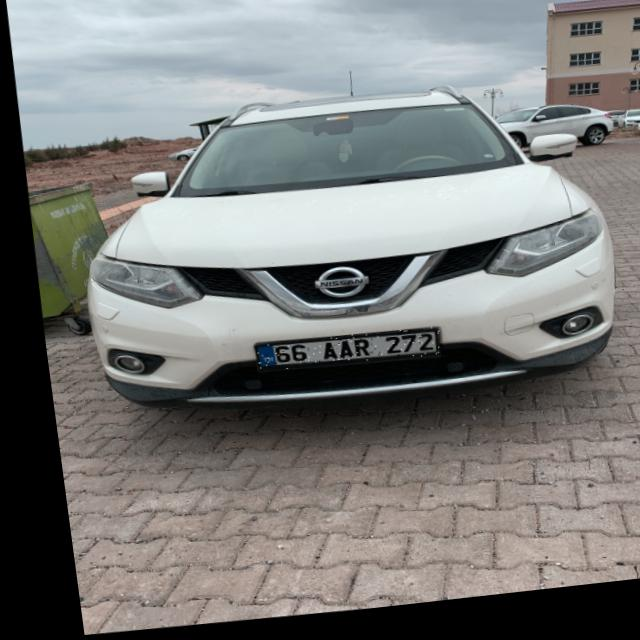license_plate: (245, 332, 431, 379)
